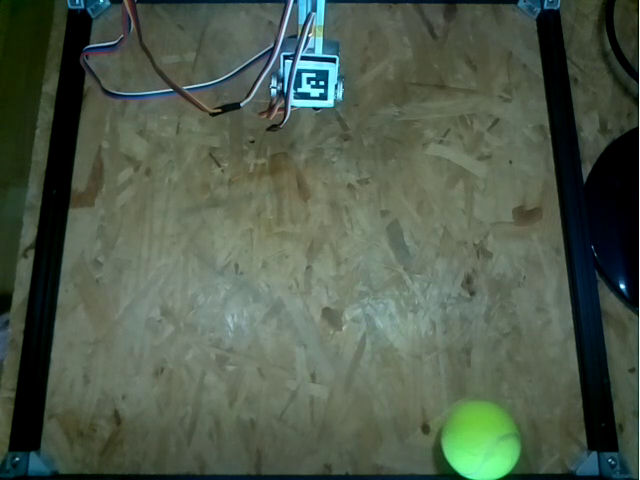tennis_ball: (441, 401, 522, 478)
